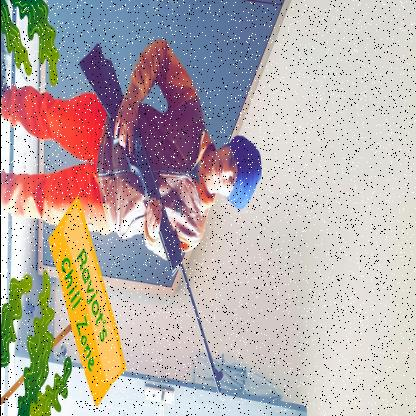rifle: (76, 39, 224, 397)
